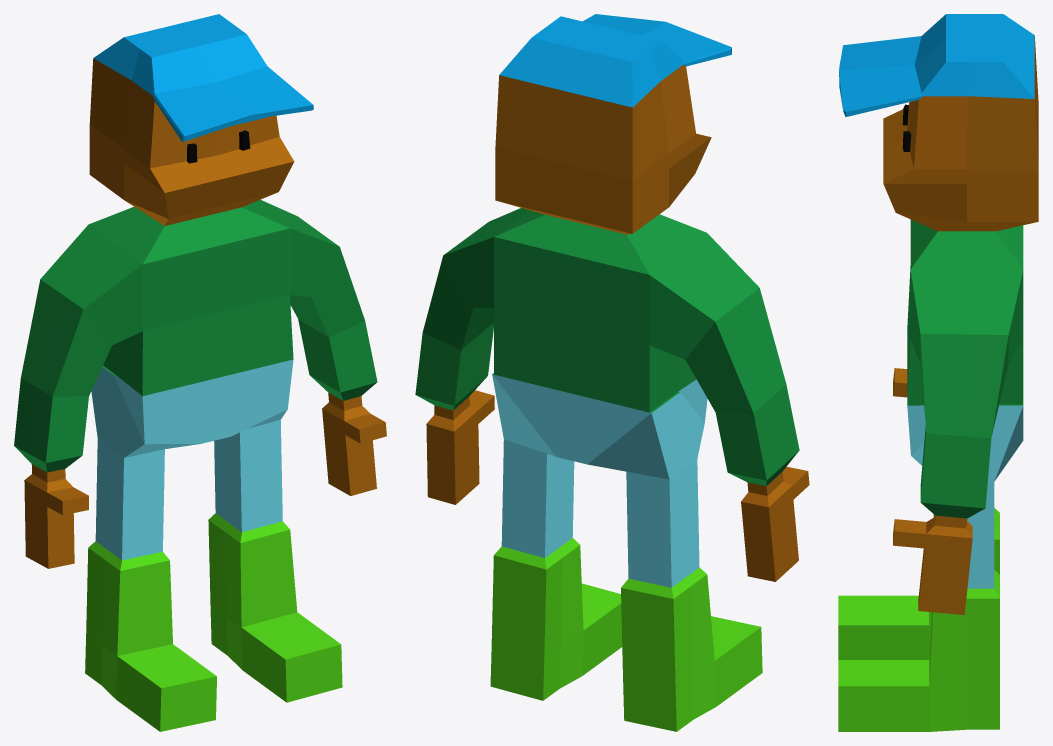
The model's file is HumanCap2.fbx.
3 renders of one model, left to right at view 1: azimuth 30°, elevation 25°; view 2: azimuth 150°, elevation 25°; view 3: azimuth 270°, elevation 25°, orthographic. The views are drawn at different scales.
Visible parts, largest first — view 1: HatHuman.001; view 2: HatHuman.001; view 3: HatHuman.001.
Part boxes in pixels (x1,y1,x2,y2): HatHuman.001: (14,14,386,731); HatHuman.001: (415,14,809,731); HatHuman.001: (838,14,1038,731).
Size of the model in its own units: 227 by 409 by 114.
